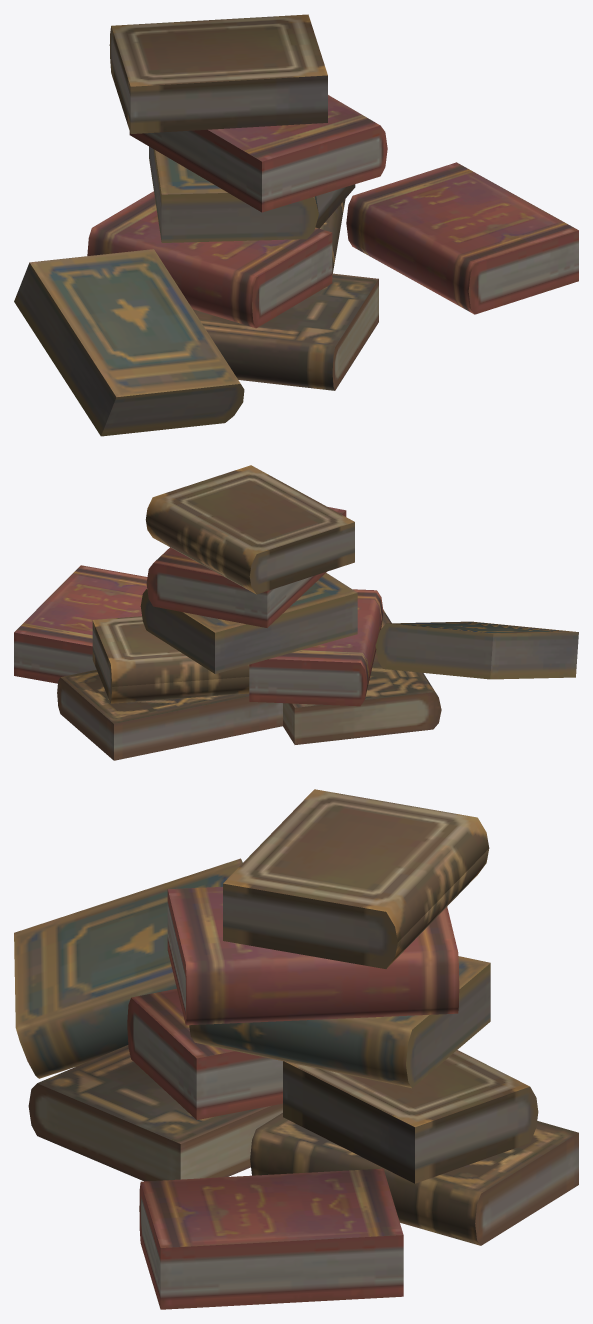
File: Homeworld_Interior_Md_Thing_Book_02_Vo.fbx
3 views of the same model, one above another, from view 1: azimuth 30°, elevation 25°; view 2: azimuth 150°, elevation 25°; view 3: azimuth 270°, elevation 25° (orthographic). The views are drawn at different scales.
Visible parts, largest first — view 1: Indoor_MdProps_Library_Book13_Vo; view 2: Indoor_MdProps_Library_Book13_Vo; view 3: Indoor_MdProps_Library_Book13_Vo.
Part boxes in pixels (x1,y1,x2,y2): Indoor_MdProps_Library_Book13_Vo: [14, 14, 578, 436]; Indoor_MdProps_Library_Book13_Vo: [14, 465, 578, 760]; Indoor_MdProps_Library_Book13_Vo: [14, 789, 578, 1309].
Size of the model in its own units: 1.05 by 0.4718 by 0.8026.
